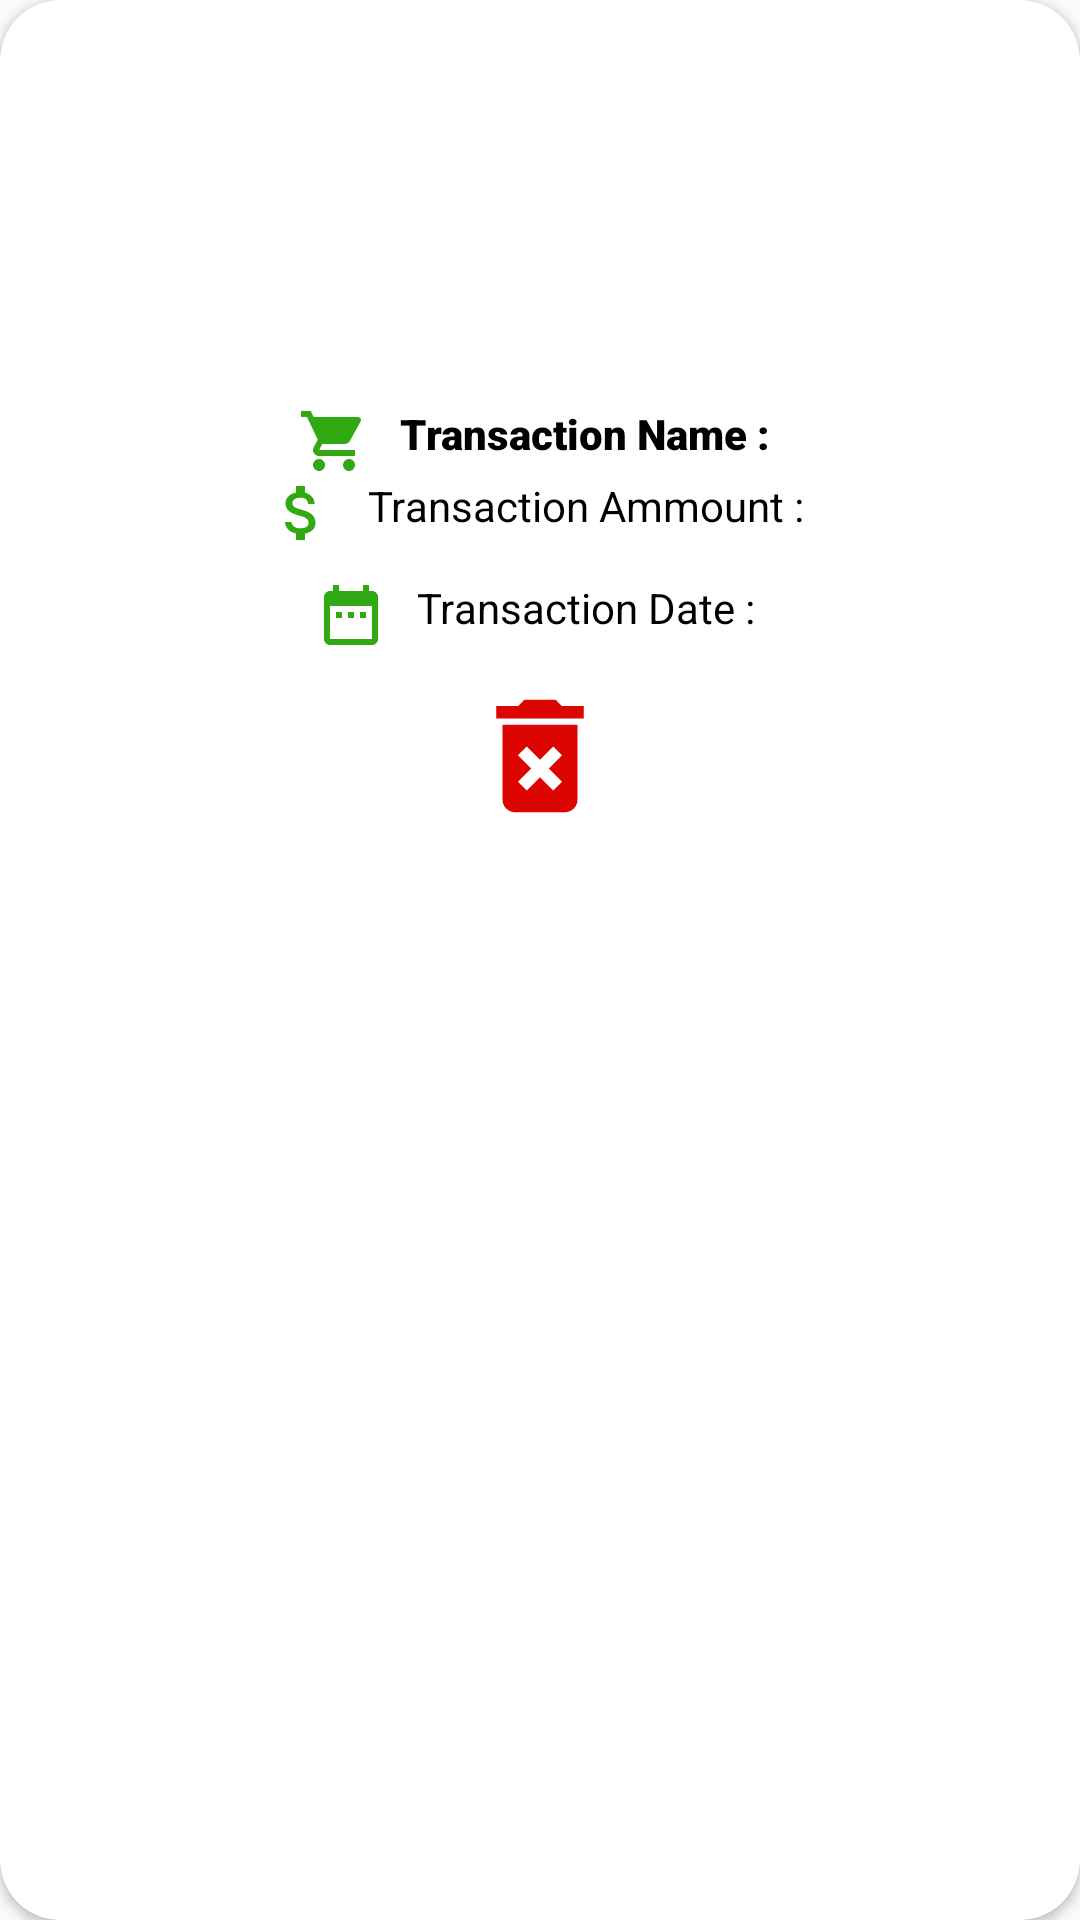

Where icons sit on this 1080 x 1920 app screen, as (x1, y1, x2, y2):
delete forever: (496, 699, 584, 813)
